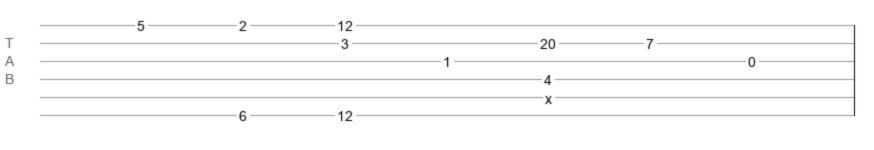0: (748, 54, 756, 64)
1: (443, 54, 451, 64)
12: (337, 18, 353, 28), (337, 108, 353, 118)
2: (239, 18, 247, 28)
20: (540, 36, 556, 46)
3: (341, 36, 349, 46)
4: (544, 72, 552, 82)
5: (137, 18, 145, 28)
6: (239, 108, 247, 118)
7: (646, 36, 654, 46)
x: (545, 91, 552, 99)
